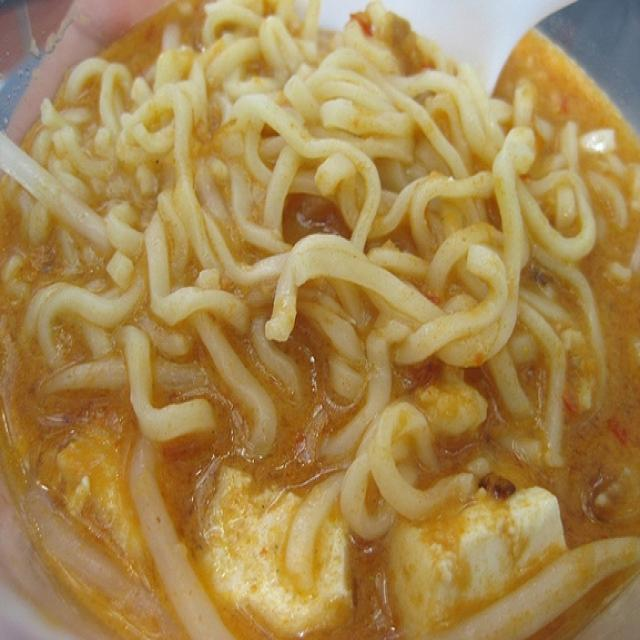面条主食: (14, 13, 624, 612)
